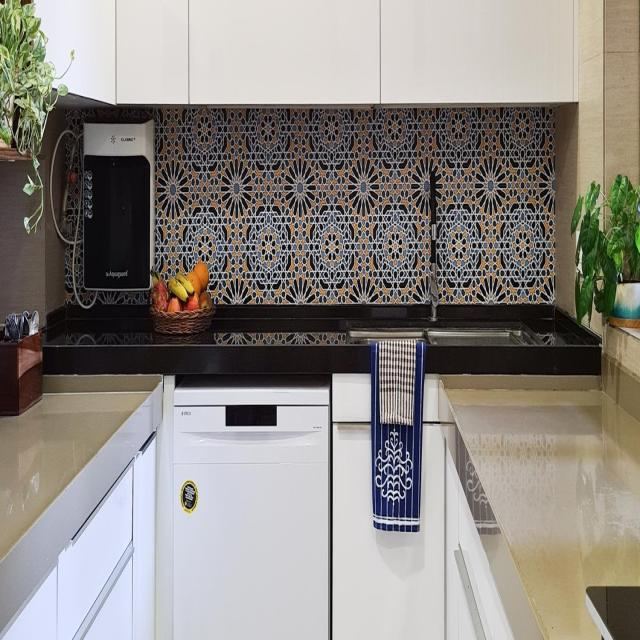dishwasher: (172, 375, 329, 640)
